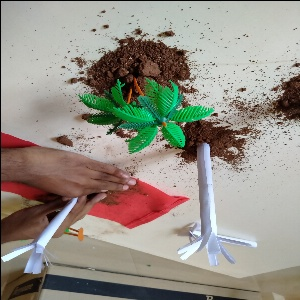plant: (175, 138, 256, 269), (7, 191, 75, 291)
weed: (71, 50, 235, 161)
